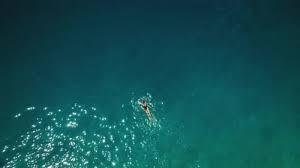Person: (137, 98, 156, 119)
